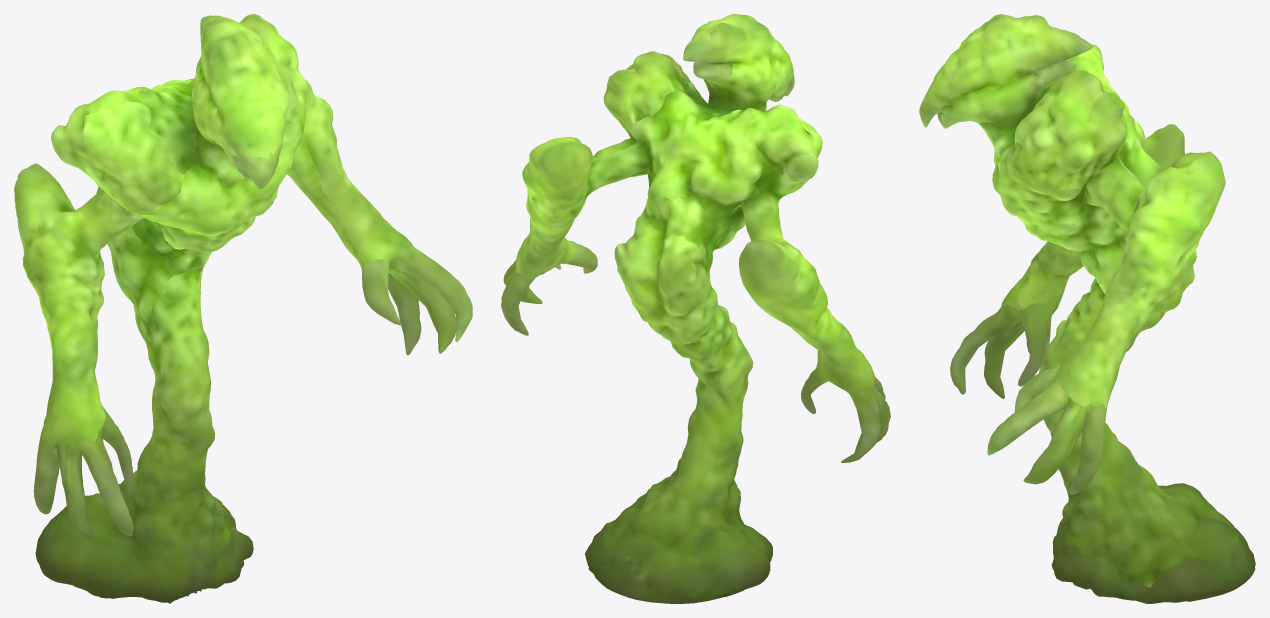
File: MZ4250 - Animated Breath_Poison.glb
The picture shows the model from 3 angles, left to right: view 1: azimuth 30°, elevation 25°; view 2: azimuth 150°, elevation 25°; view 3: azimuth 270°, elevation 25°; orthographic projection. The views are drawn at different scales.
Visible parts, largest first — view 1: ORGANIC BASE SPHERE.001; view 2: ORGANIC BASE SPHERE.001; view 3: ORGANIC BASE SPHERE.001.
Part boxes in pixels (bbox=[...]): ORGANIC BASE SPHERE.001: bbox=[14, 14, 472, 603]; ORGANIC BASE SPHERE.001: bbox=[501, 14, 890, 603]; ORGANIC BASE SPHERE.001: bbox=[919, 14, 1255, 603].
Size of the model in its own units: 121 by 159 by 86.74.
1 material, 1 textured.
